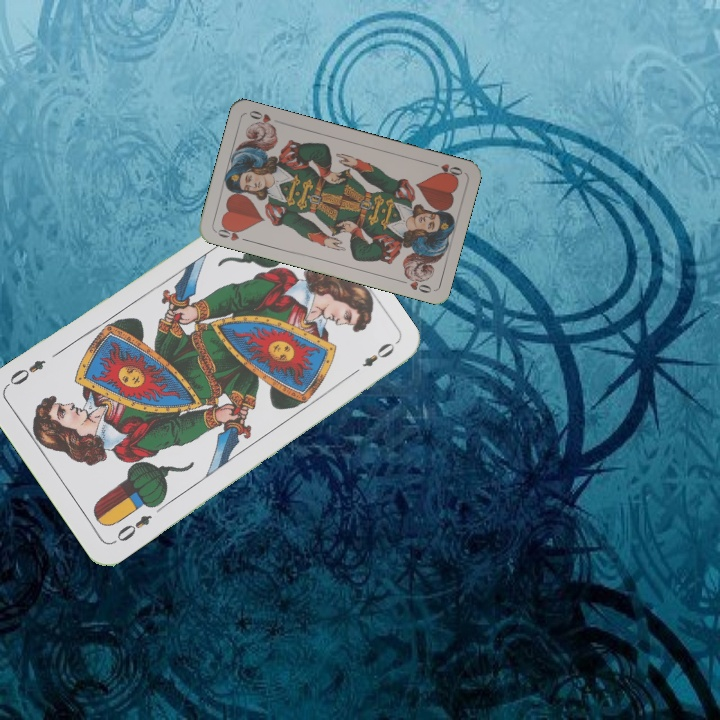EO: (108, 510, 155, 547)
HO: (212, 221, 252, 244), (426, 158, 465, 181)
